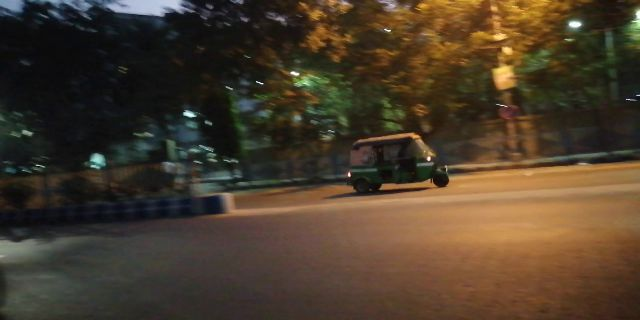Autorickshaw: (345, 134, 453, 190)
